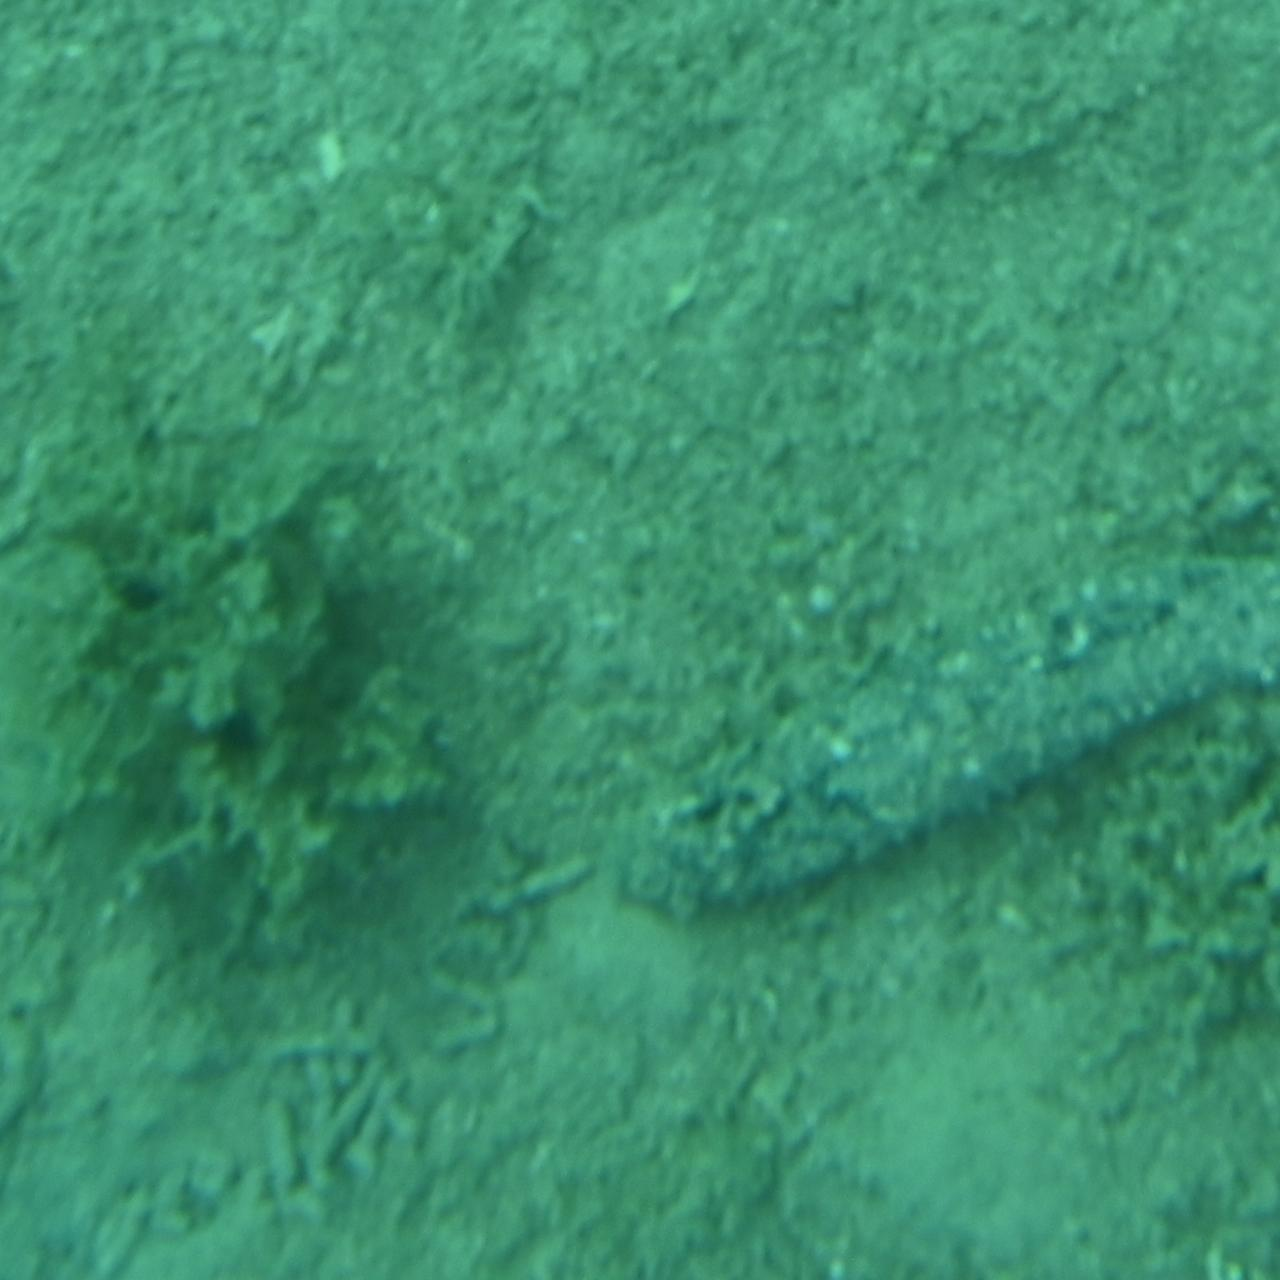Holothuria tubulosa: (619, 542, 1280, 942)
Phaeophyceae -cfr Cystoseira-: (12, 370, 475, 971)
